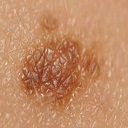Melanoma: (22, 34, 100, 106)
